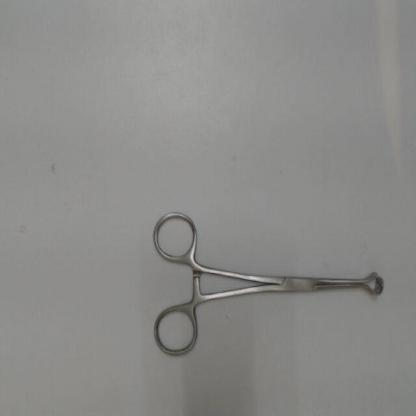Babcock Tissue Forceps: (150, 205, 388, 364)
